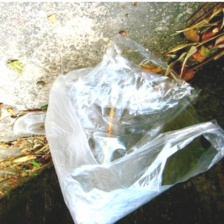plastic_bag: (41, 30, 223, 224)
